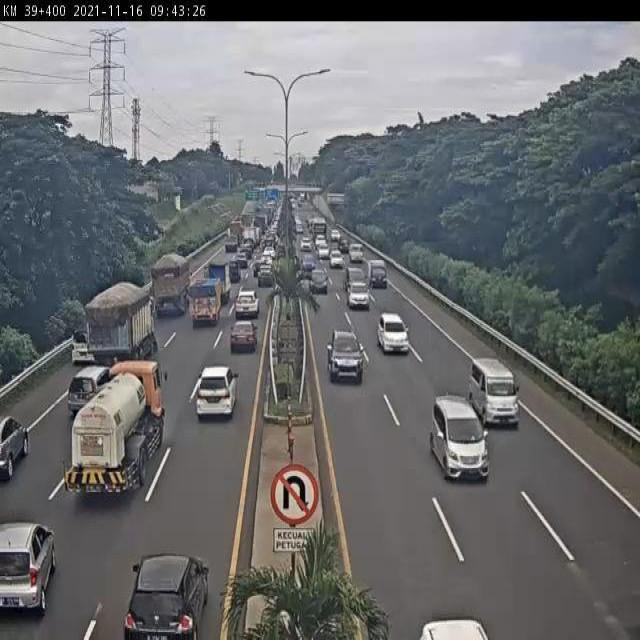car: (114, 557, 230, 640), (0, 513, 68, 619), (430, 391, 495, 496), (466, 349, 529, 428), (191, 358, 241, 431), (67, 358, 120, 422), (1, 398, 37, 491), (324, 325, 366, 388), (413, 606, 489, 640), (371, 309, 416, 362), (65, 327, 98, 372), (226, 316, 262, 357), (228, 286, 270, 318), (254, 258, 279, 290), (306, 268, 333, 296), (346, 281, 370, 311), (344, 264, 367, 291)
small truck: (188, 278, 224, 330), (205, 257, 235, 307), (365, 259, 391, 288)
truck-m-: (63, 350, 164, 506), (71, 279, 170, 369), (143, 252, 196, 320)
